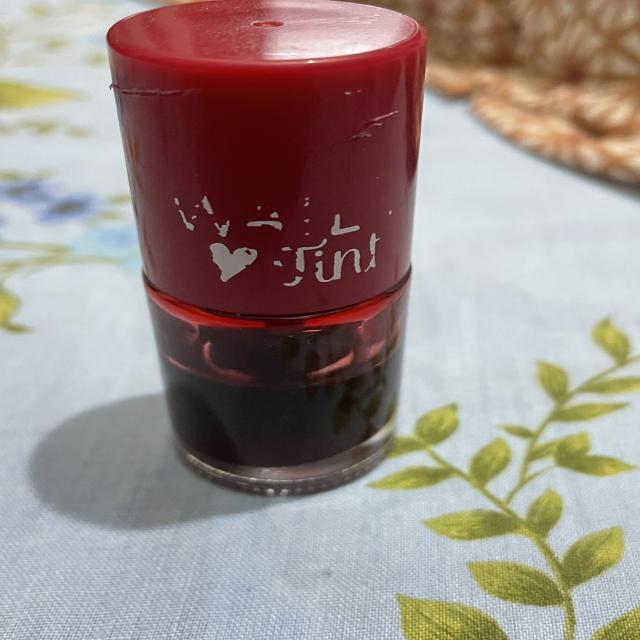Tint: (92, 2, 452, 507)
